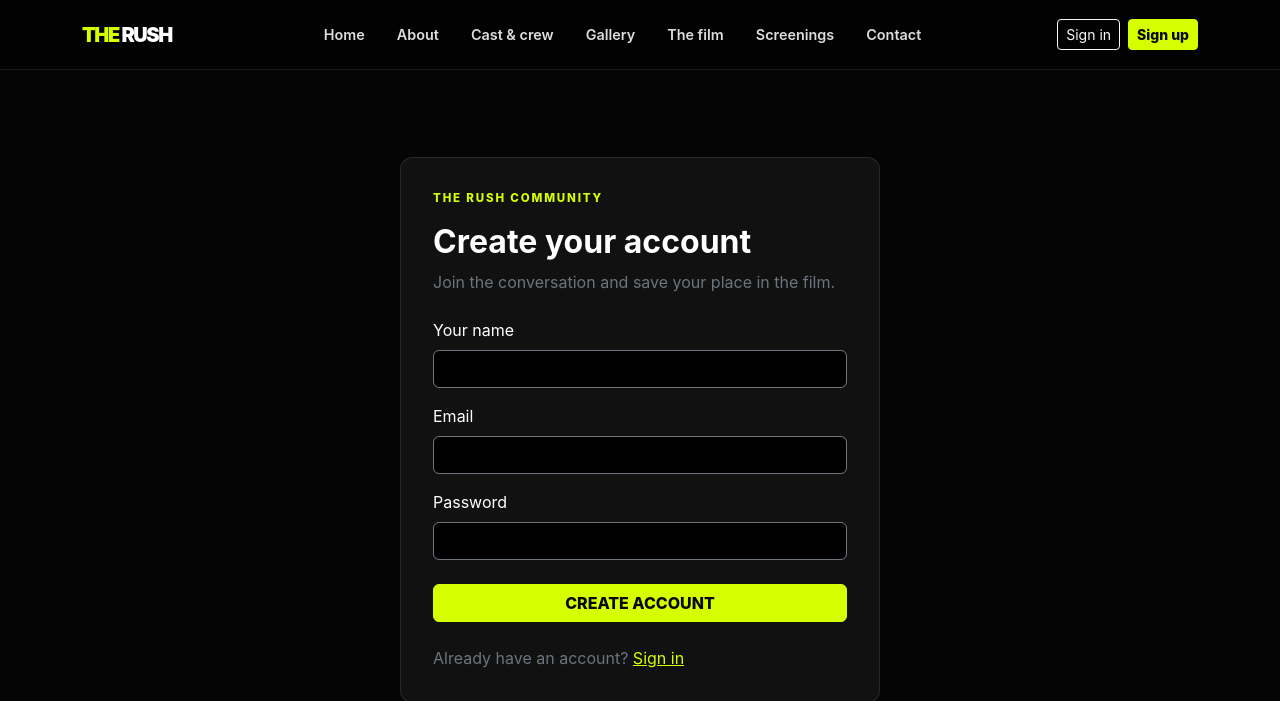
Test: explains Supabase signup rate limits and offers sign in
The image size is (1280, 701).
Type "Jude" into the field labelled "Your name" at (640, 369), box x1=433 y1=350 x2=847 y2=388
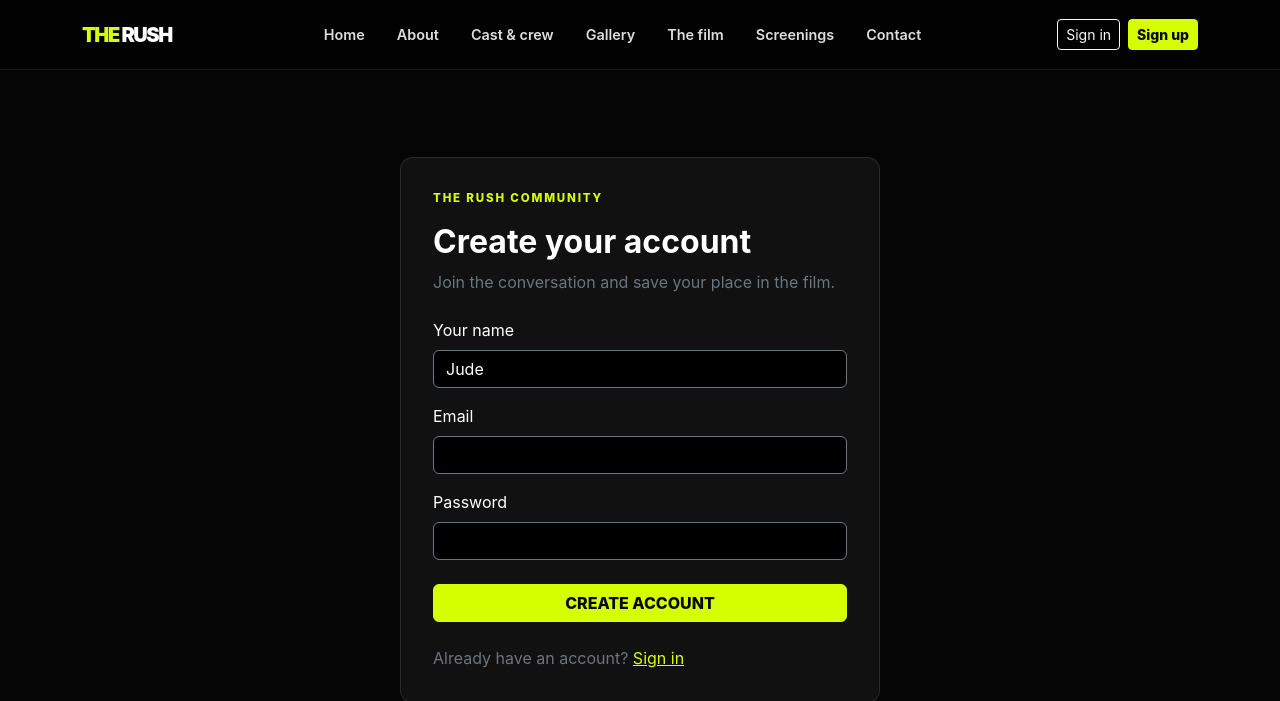
Type "jude@example.com" into the field labelled "Email" at (640, 455), box x1=433 y1=436 x2=847 y2=474
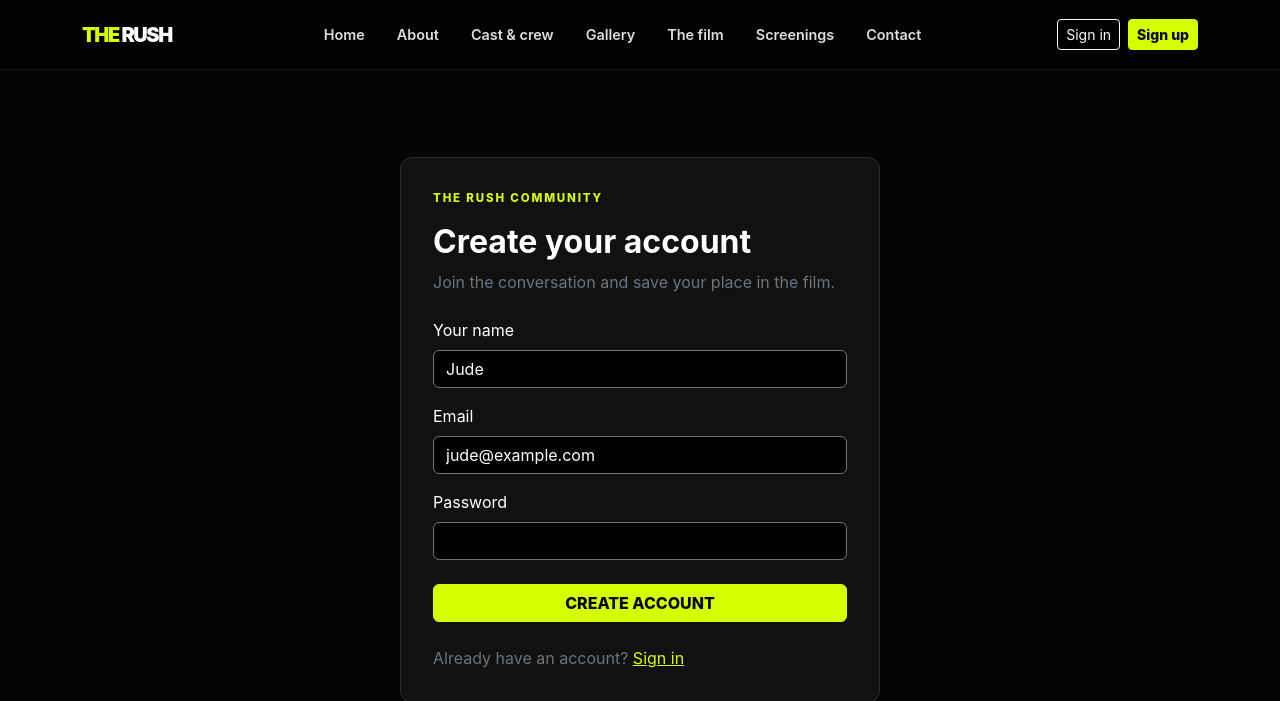
Type "secure-password" into the password field labelled "Password" at (640, 541), box x1=433 y1=522 x2=847 y2=560
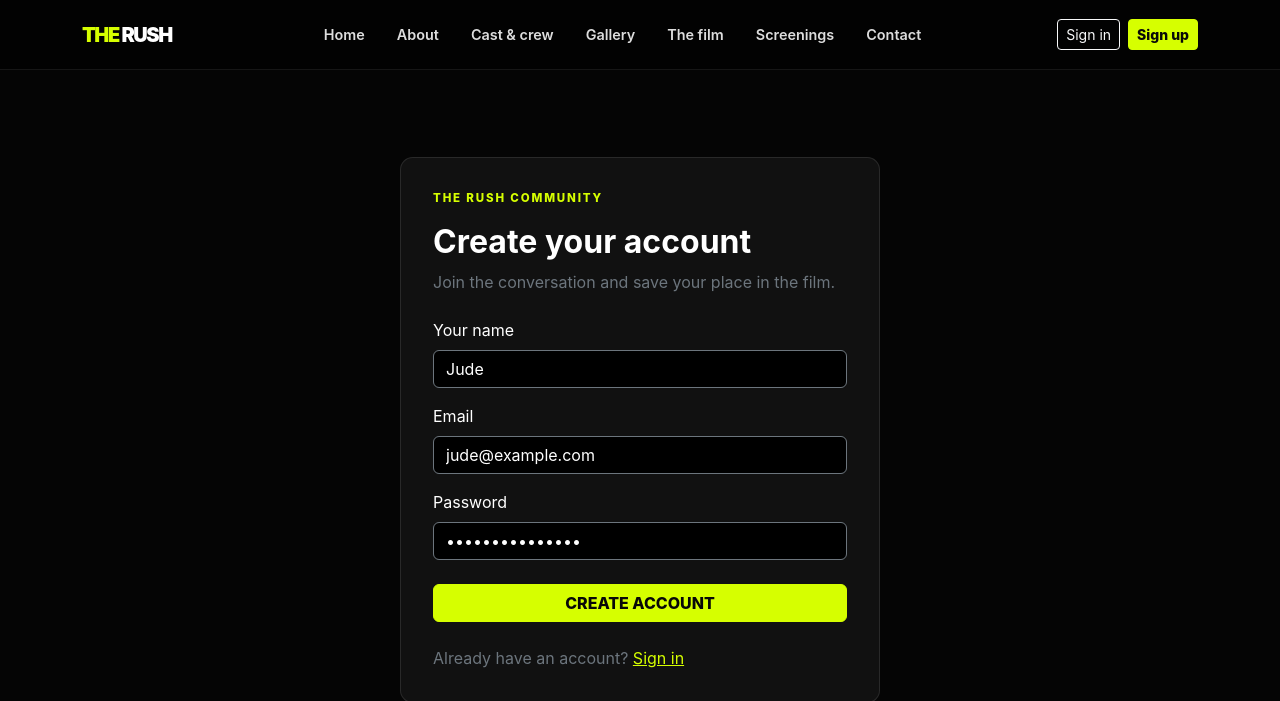
Click the button "CREATE ACCOUNT" at (640, 603), box x1=433 y1=584 x2=847 y2=622
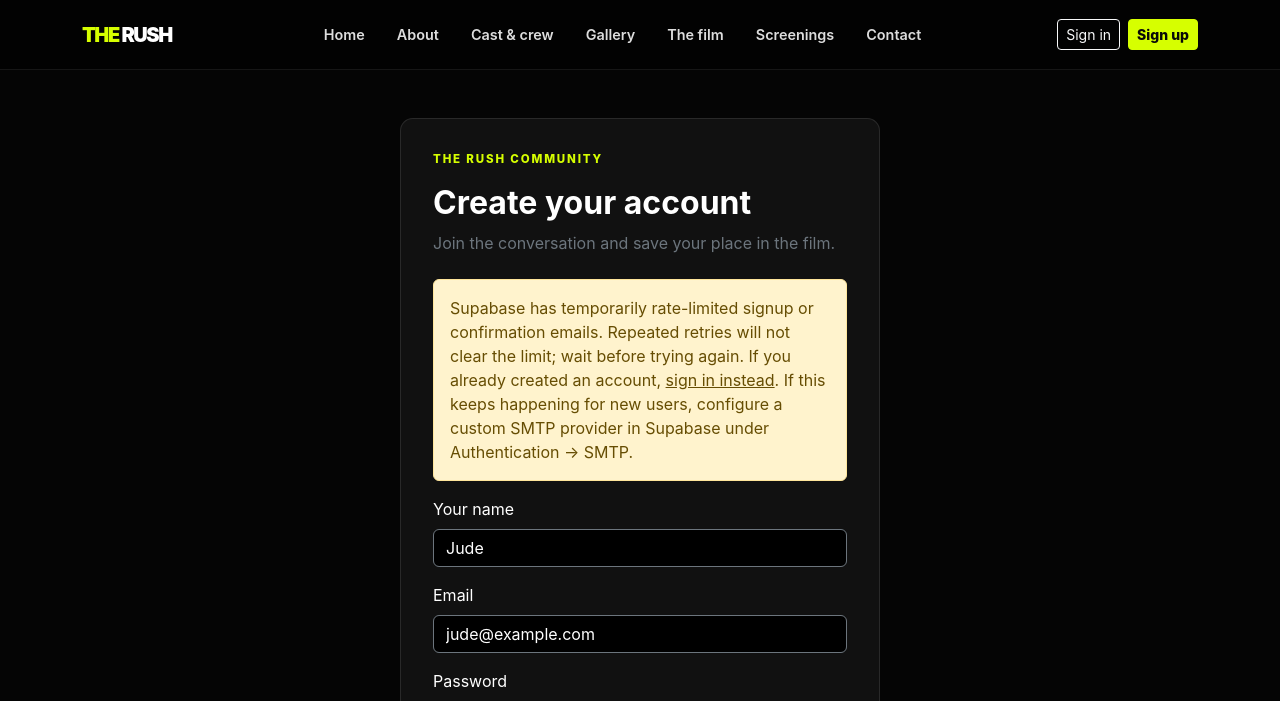
Now the message shows "temporarily rate-limited signup", box x1=450 y1=298 x2=814 y2=390
